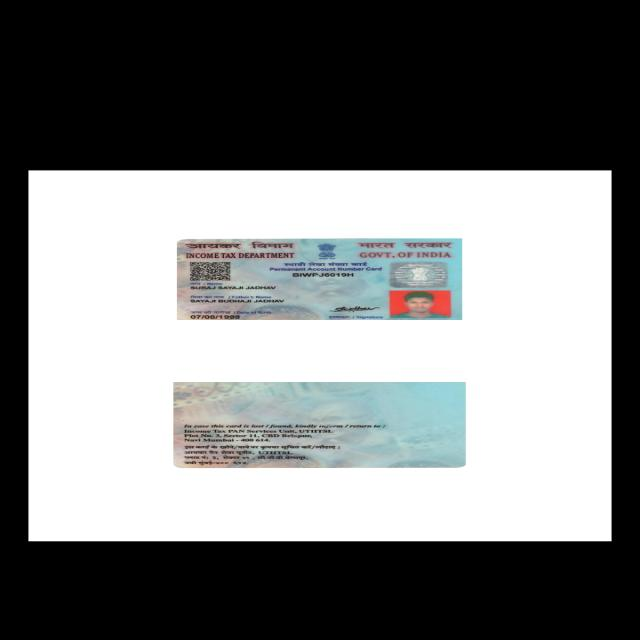pan_card: (171, 381, 467, 467), (173, 238, 464, 320)
